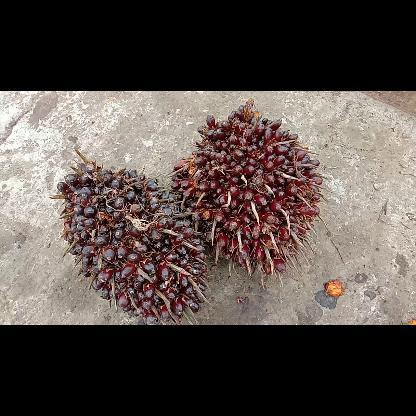Kurang masak: (54, 164, 208, 322)
TBS masak: (169, 99, 323, 277)
